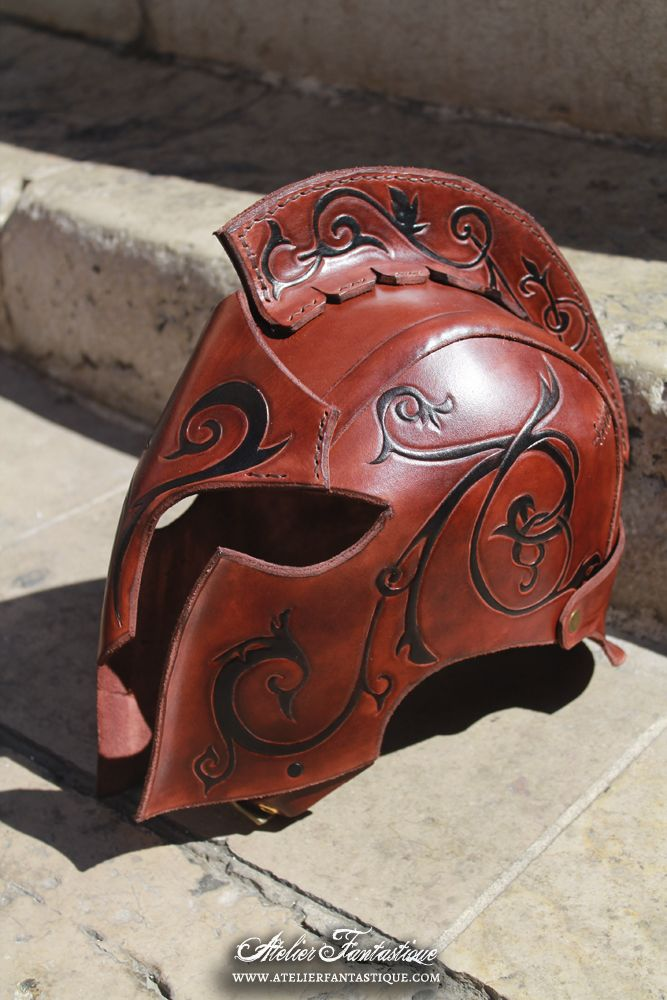cuero: (92, 162, 628, 826)
